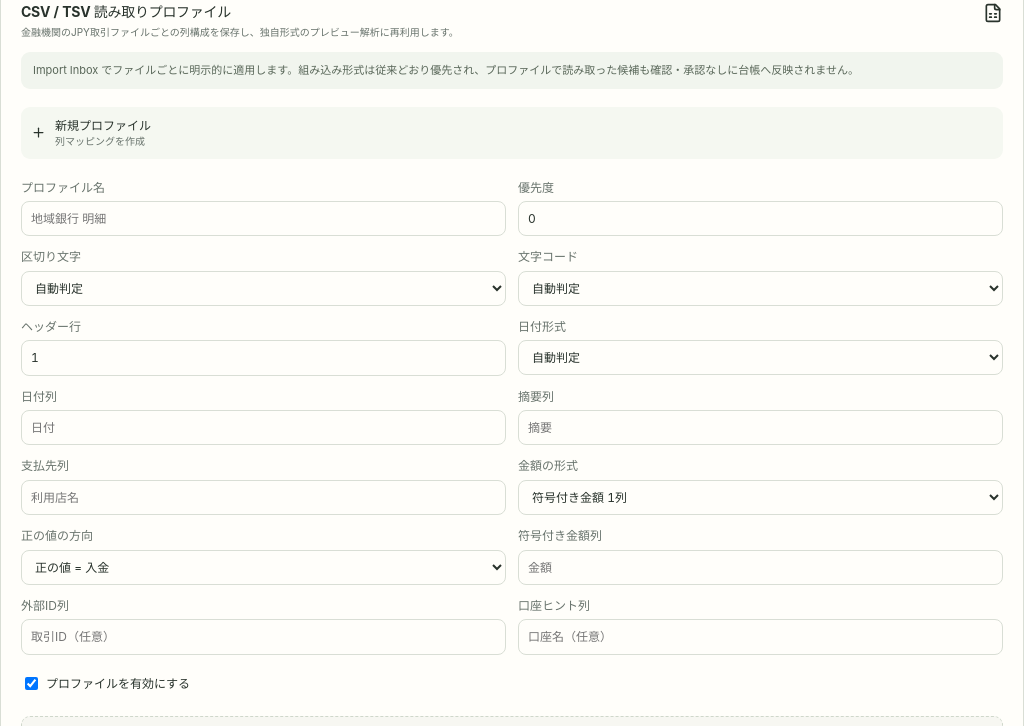
Test: DelimitedParserProfilesPanel › creates a signed-amount profile after validating its mapping
Type "Local card" into the field labelled "プロファイル名". click: coordinates (264, 219)
box: [21,201,506,236]
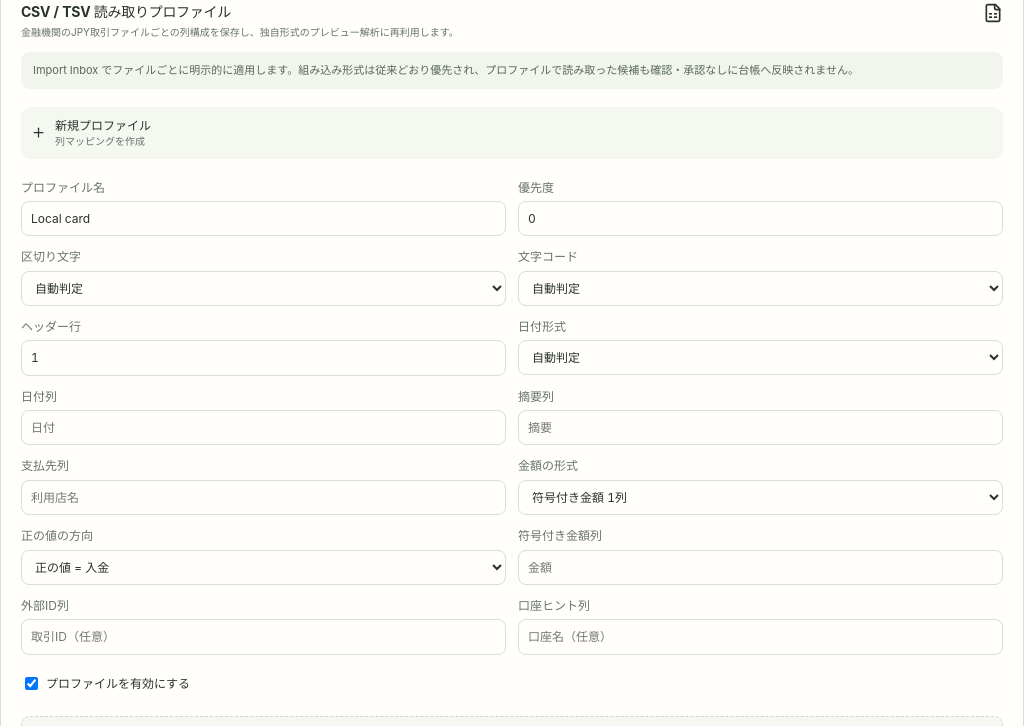
Type "Date" into the field labelled "日付列". click: coordinates (264, 428)
box: [21,410,506,445]
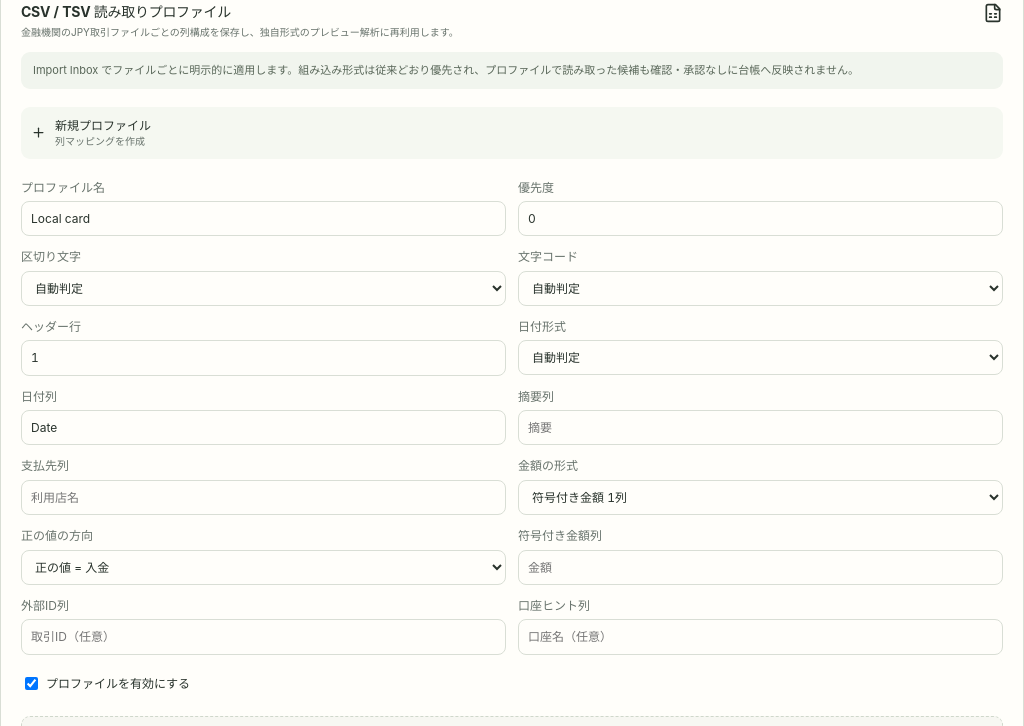
Type "Description" into the field labelled "摘要列". click: coordinates (760, 428)
box: [518,410,1003,445]
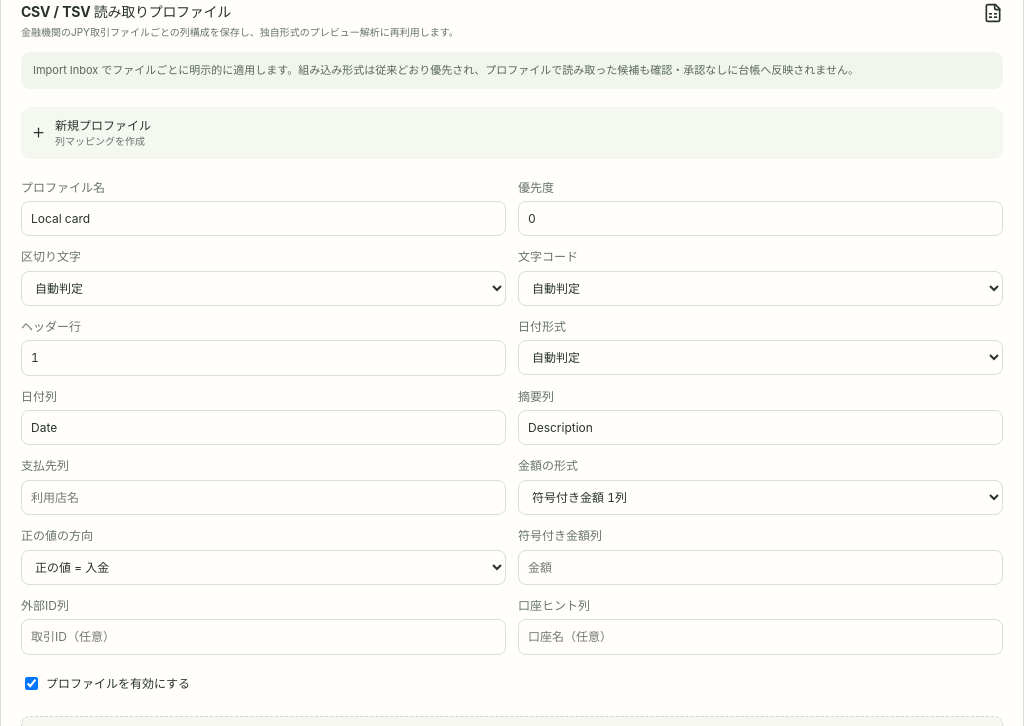
Type "Amount" into the field labelled "符号付き金額列". click: coordinates (760, 567)
box: [518,550,1003,585]
(page scrolled)
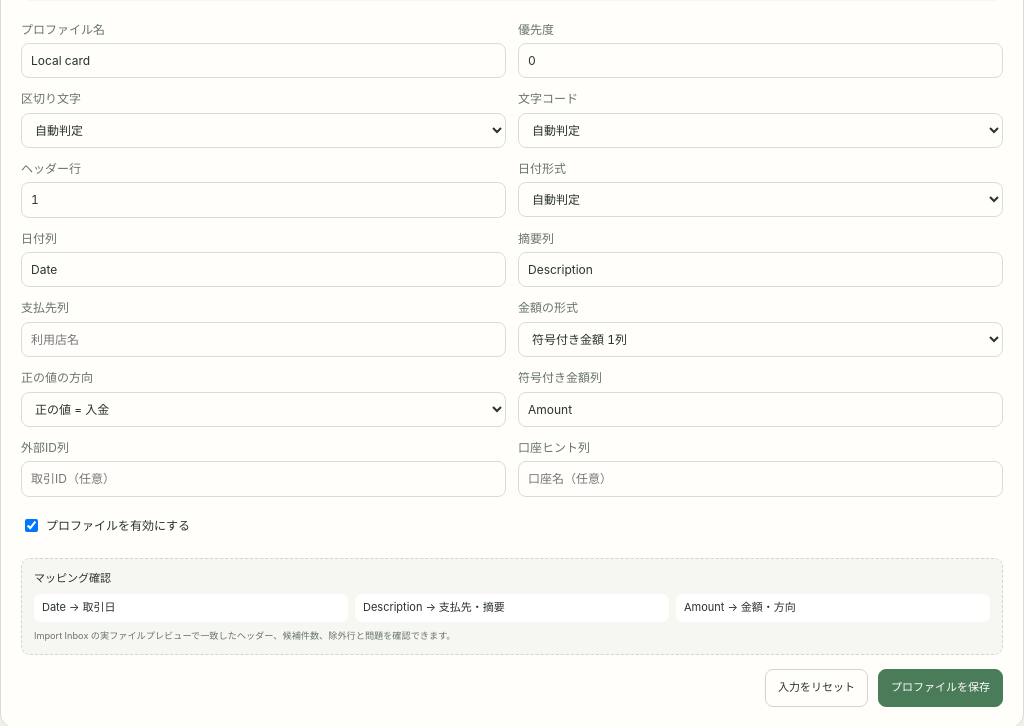
Click the button "プロファイルを保存". click: coordinates (940, 688)
box: [878,669,1003,707]
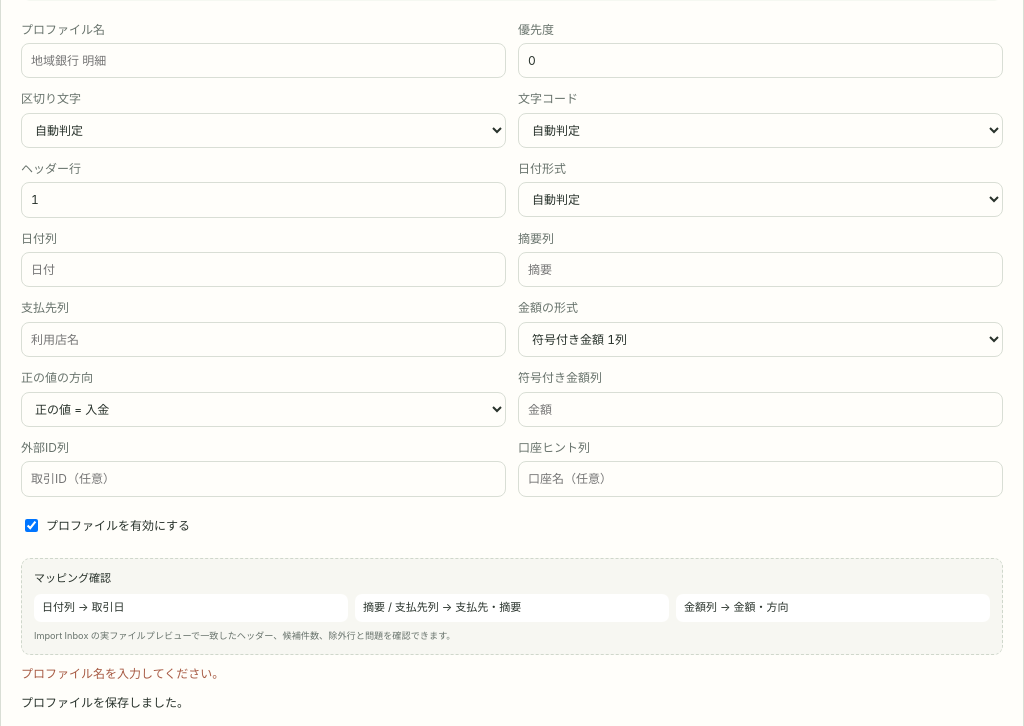
Check: the text "プロファイルを保存しました。" is shown, box [21,695,189,710]
